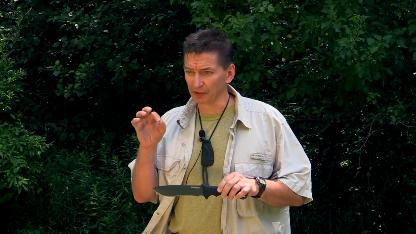knife: (150, 170, 248, 200)
